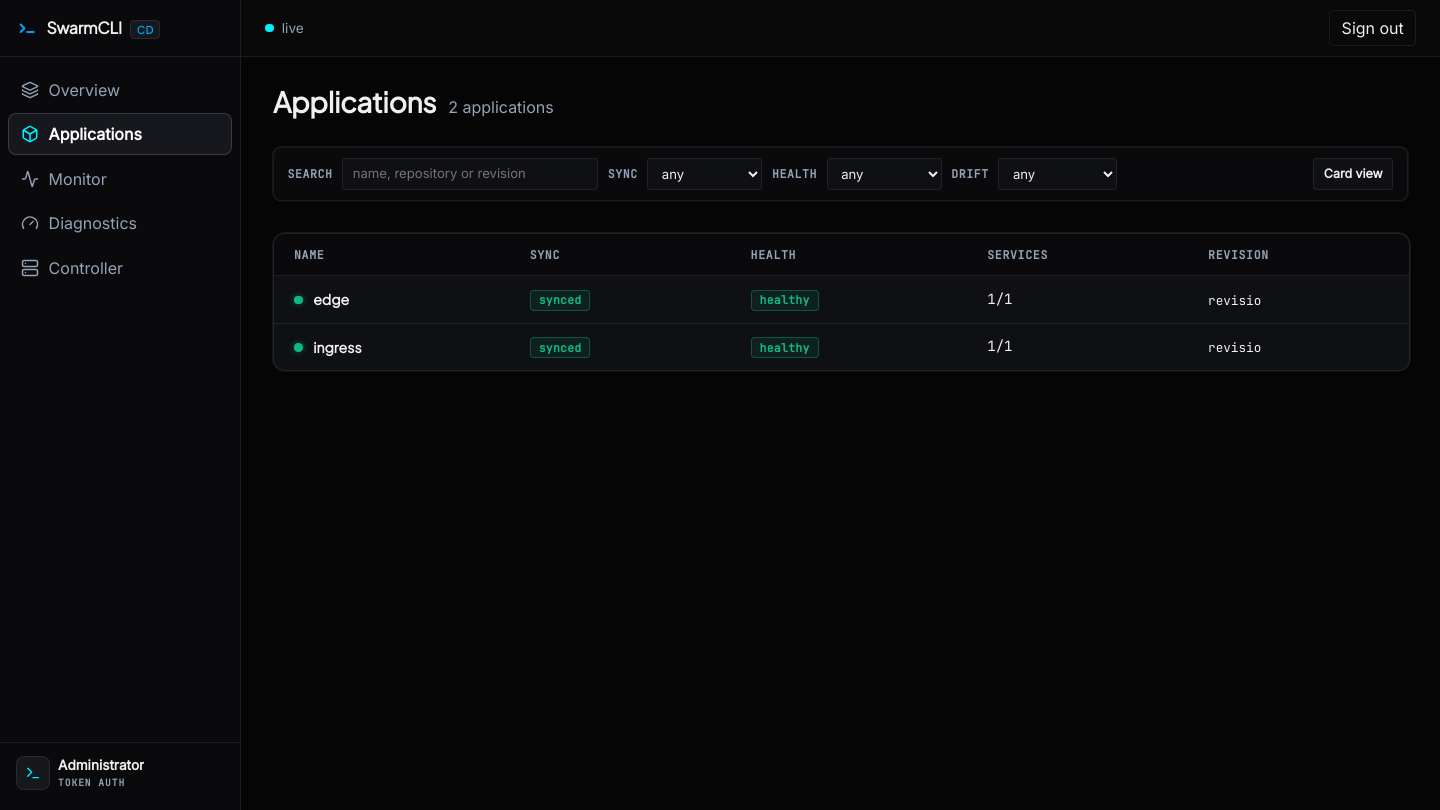
Test: the diagnostics screen › reports no risks when the whole fleet is clear
Expected: the text "2 applications" is shown, top-left (448, 95), bottom-right (554, 119)
What coordinates should you click on to do the following:
click the link "Diagnostics"
I would click on:
 (79, 223)
Its box is top-left (21, 213), bottom-right (137, 233).
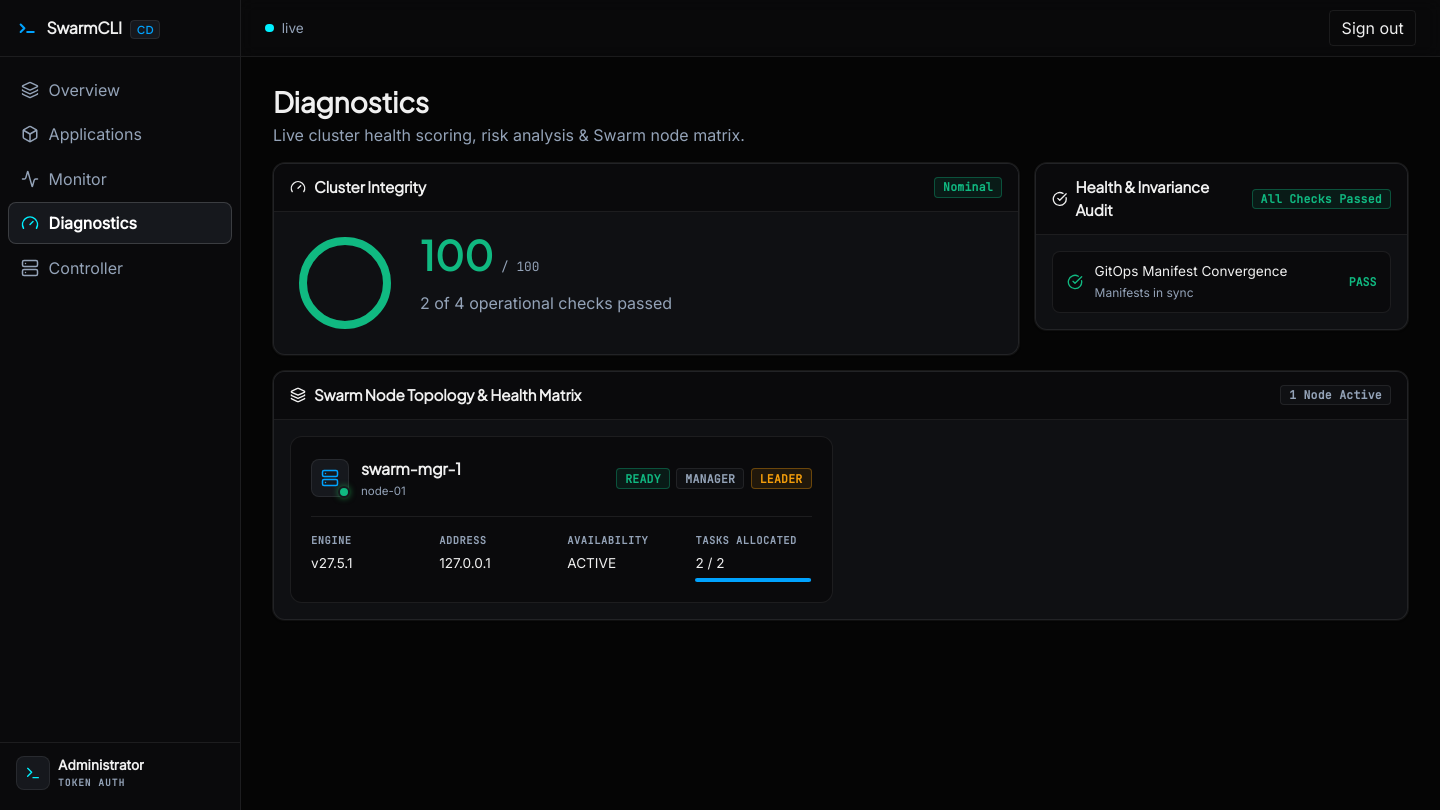
Expected: the heading "Diagnostics" is shown, top-left (273, 84), bottom-right (429, 119)
Expected: the picture named "Integrity score 100 out of 100" is shown, top-left (290, 228), bottom-right (400, 338)
Expected: the text "All Checks Passed" is shown, top-left (1252, 188), bottom-right (1391, 209)
